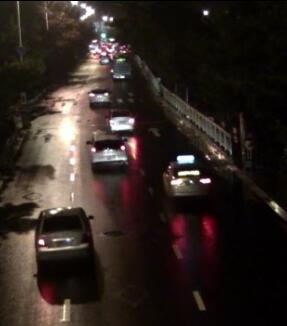car: (31, 205, 94, 267), (162, 154, 215, 198), (86, 131, 131, 168), (102, 103, 138, 133), (87, 86, 115, 105), (110, 58, 130, 79), (99, 51, 111, 62)
